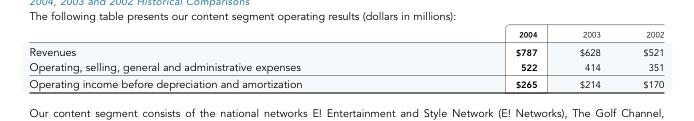table: (28, 29, 663, 90)
table column: (28, 29, 409, 90), (409, 29, 559, 90), (559, 29, 622, 90), (622, 29, 663, 90)
table column header: (28, 29, 663, 42)
table row: (28, 42, 663, 58), (28, 58, 663, 74), (28, 74, 663, 90), (28, 29, 663, 42)
